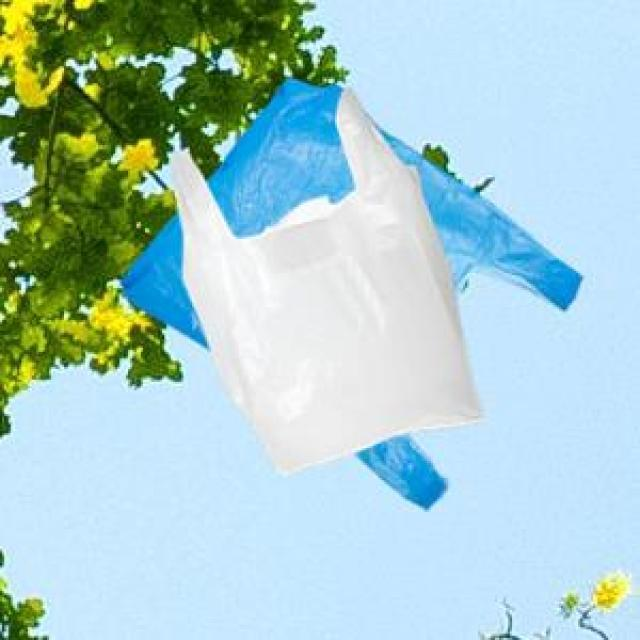waste: (122, 80, 581, 472)
